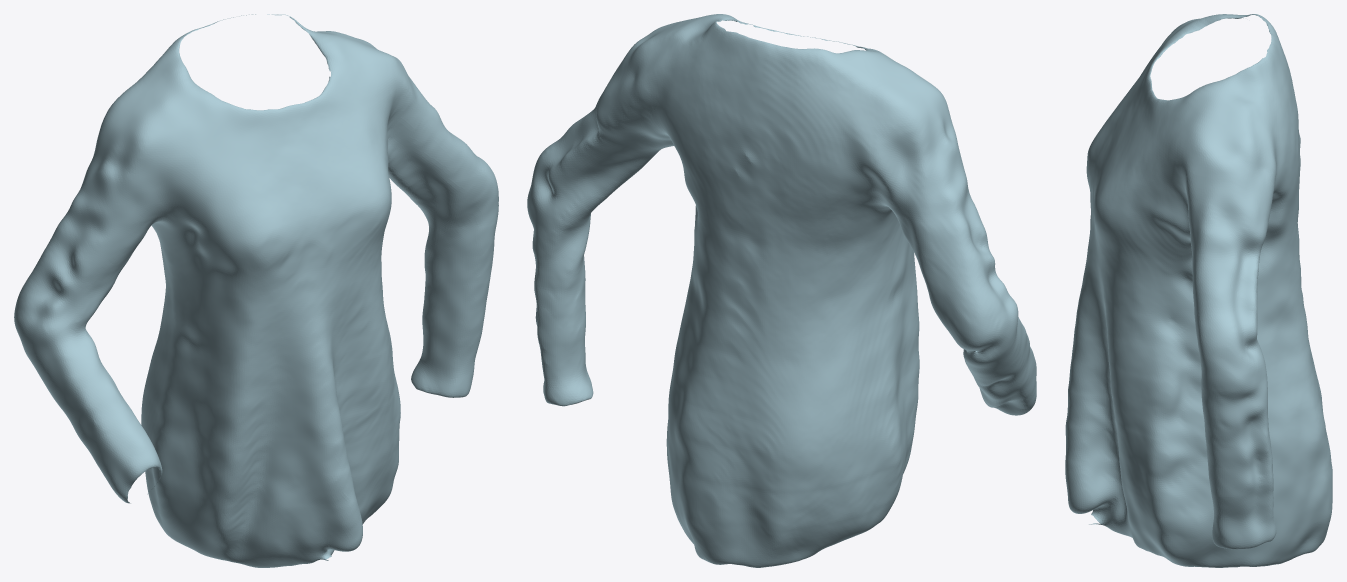
The model's file is cloth.glb.
The picture shows the model from 3 angles, left to right: view 1: azimuth 30°, elevation 25°; view 2: azimuth 150°, elevation 25°; view 3: azimuth 270°, elevation 25°; orthographic projection. The views are drawn at different scales.
Visible parts, largest first — view 1: deepfashion.obj; view 2: deepfashion.obj; view 3: deepfashion.obj.
Boxes of the visible parts, x1=… form: deepfashion.obj: x1=14, y1=14, x2=498, y2=567; deepfashion.obj: x1=527, y1=14, x2=1036, y2=567; deepfashion.obj: x1=1065, y1=14, x2=1332, y2=567.
Size of the model in its own units: 0.9846 by 1 by 0.49.
